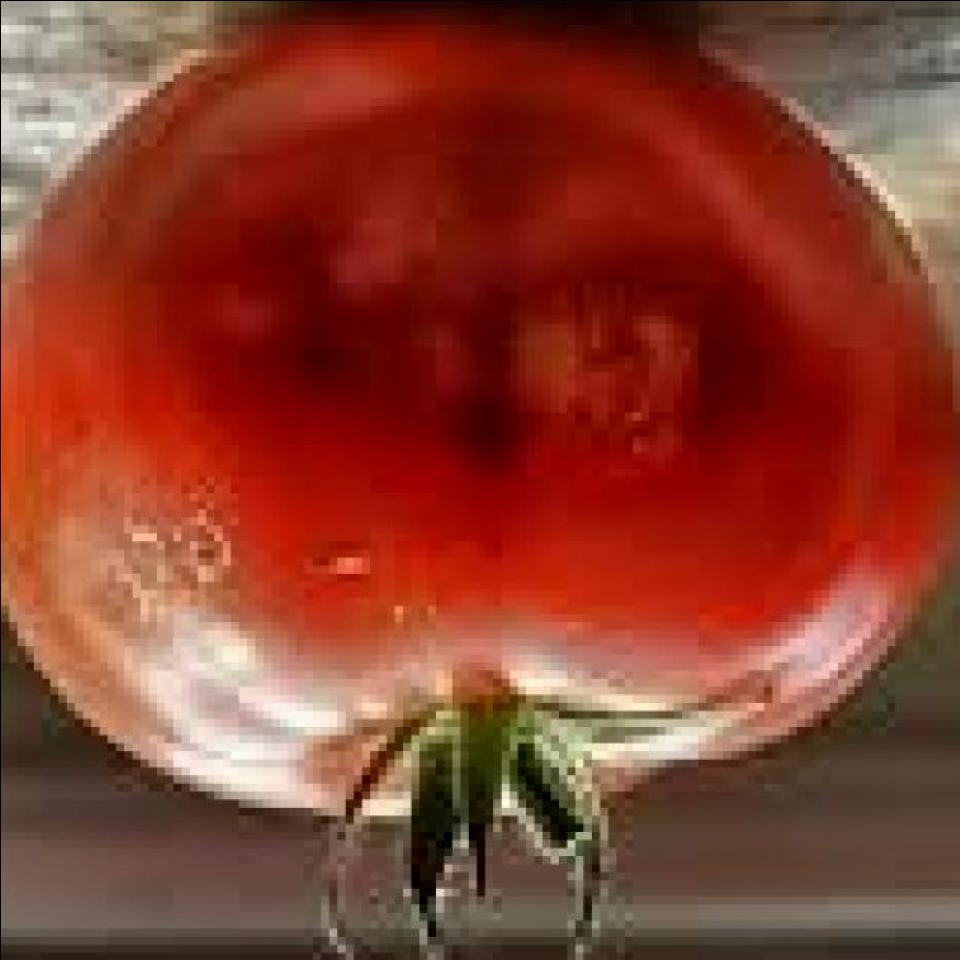Healthy: (11, 23, 960, 871), (12, 844, 20, 848)
